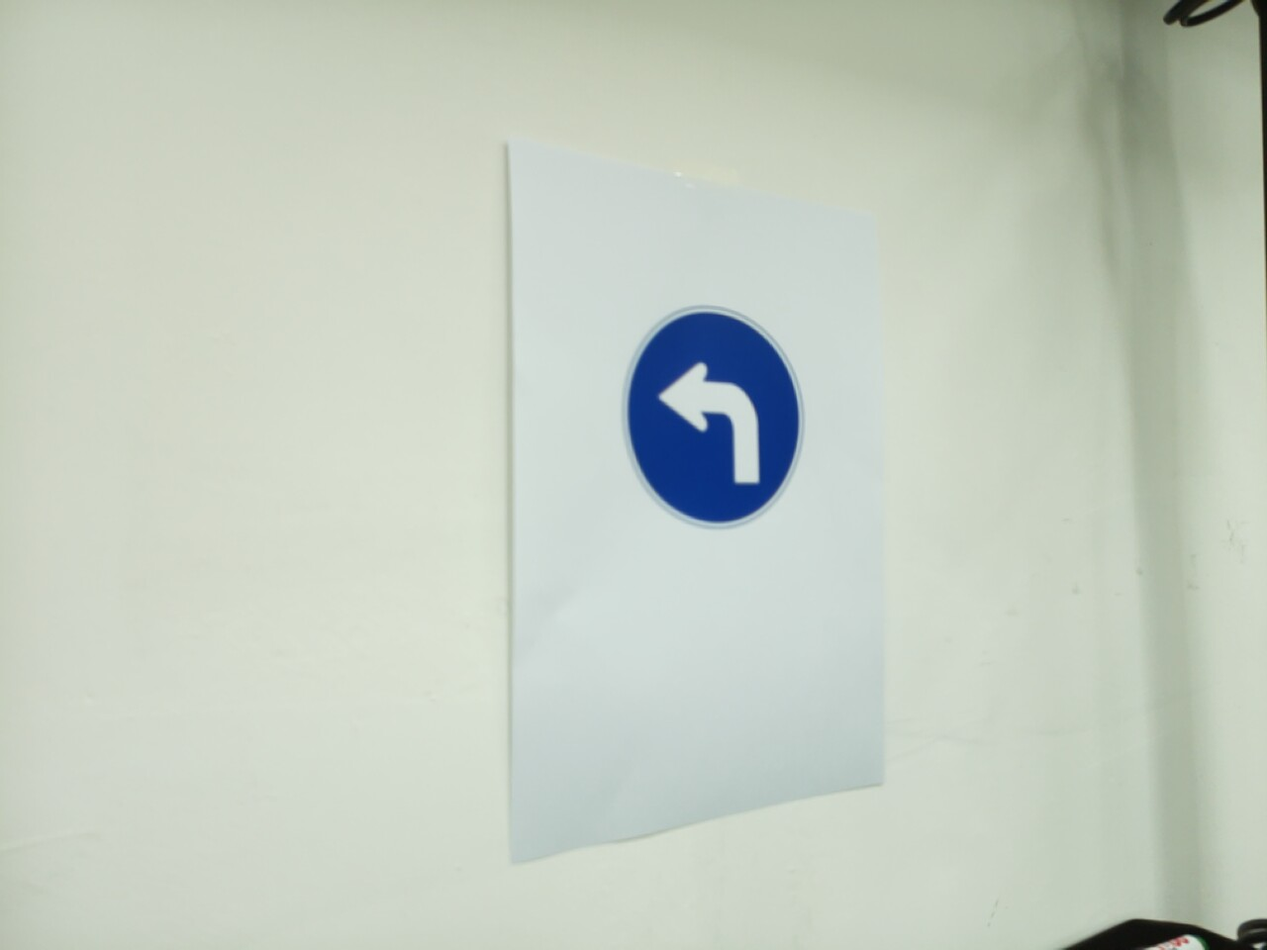left_turn: (621, 304, 806, 530)
